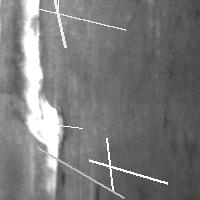scratches: (16, 1, 64, 198), (33, 143, 129, 200), (33, 3, 130, 34), (84, 155, 172, 188), (44, 0, 70, 52), (23, 116, 87, 133), (101, 133, 117, 195), (171, 137, 196, 170), (52, 0, 72, 19)
